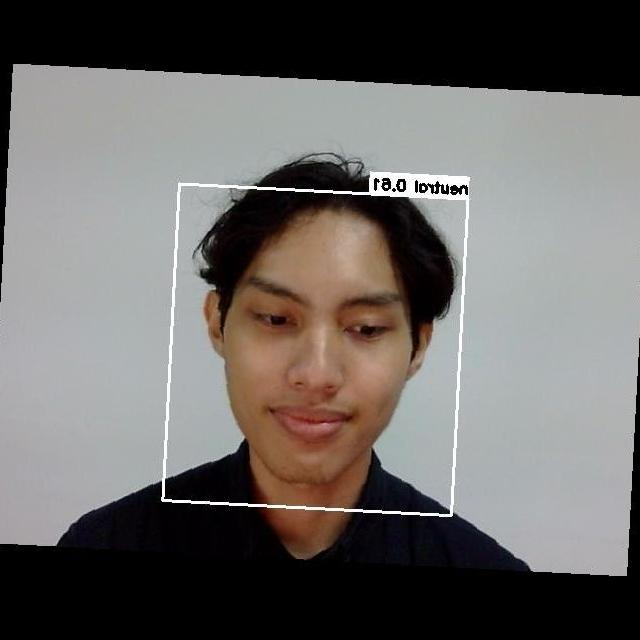Happy: (235, 256, 415, 465)
